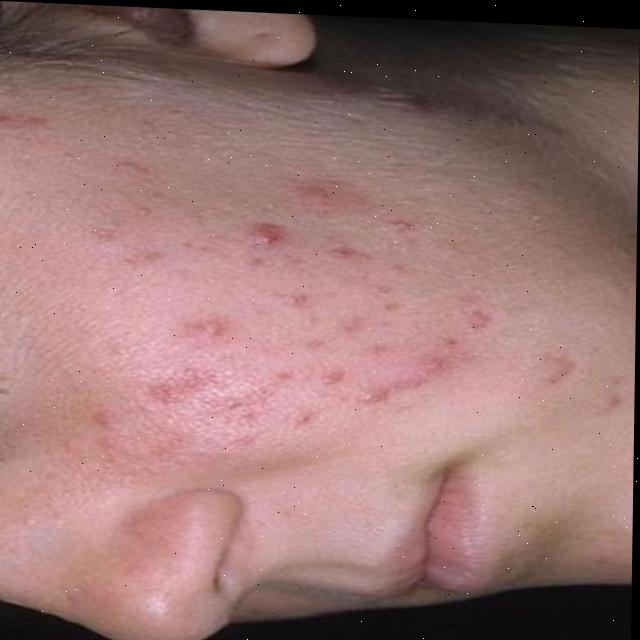Rosacea: (92, 151, 490, 473)
